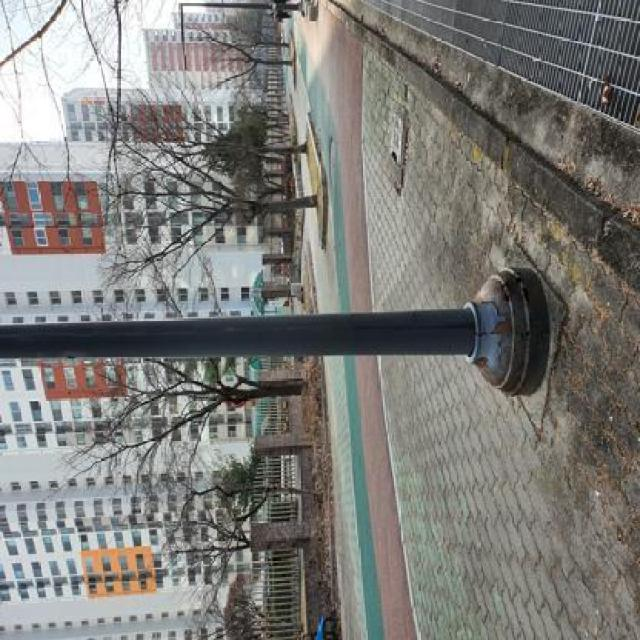pole: (1, 254, 558, 412)
